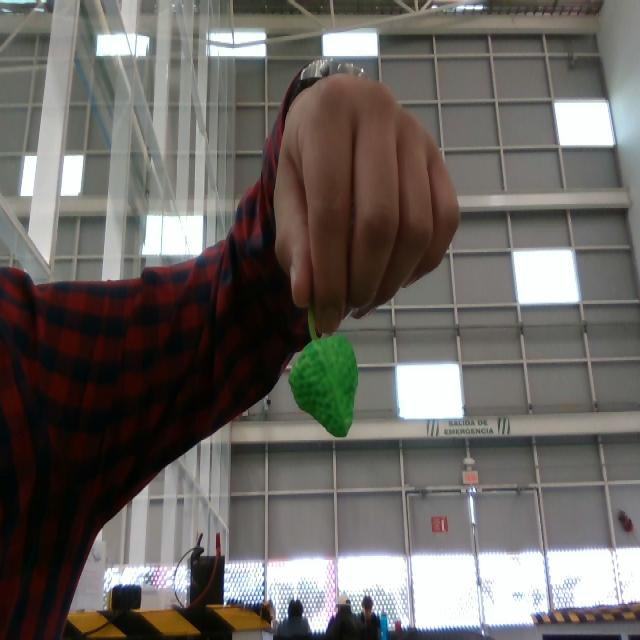verde: (286, 330, 363, 440)
